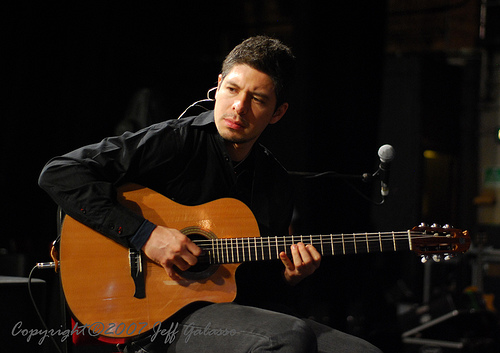guitar: (57, 188, 474, 338)
